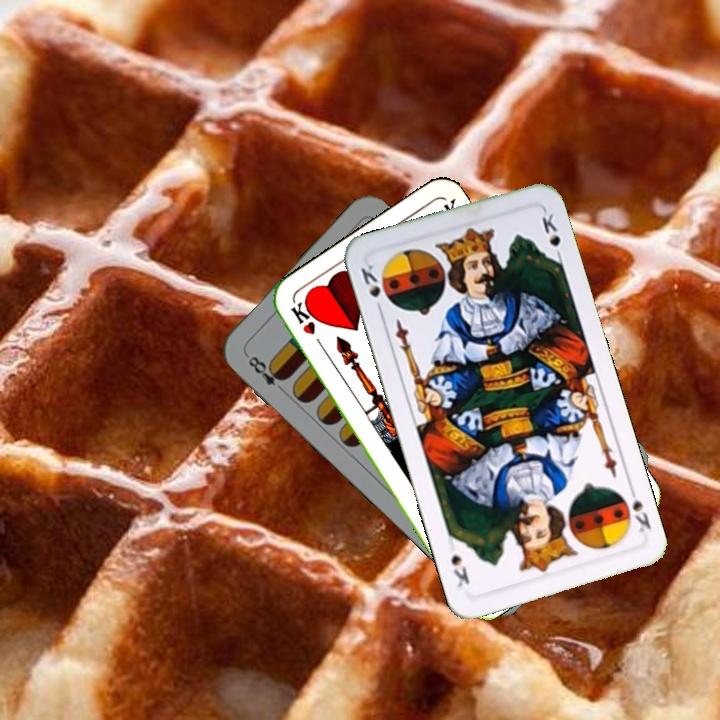E8: (242, 350, 289, 396)
HK: (286, 298, 328, 353)
SK: (356, 260, 385, 317), (624, 482, 654, 535)
